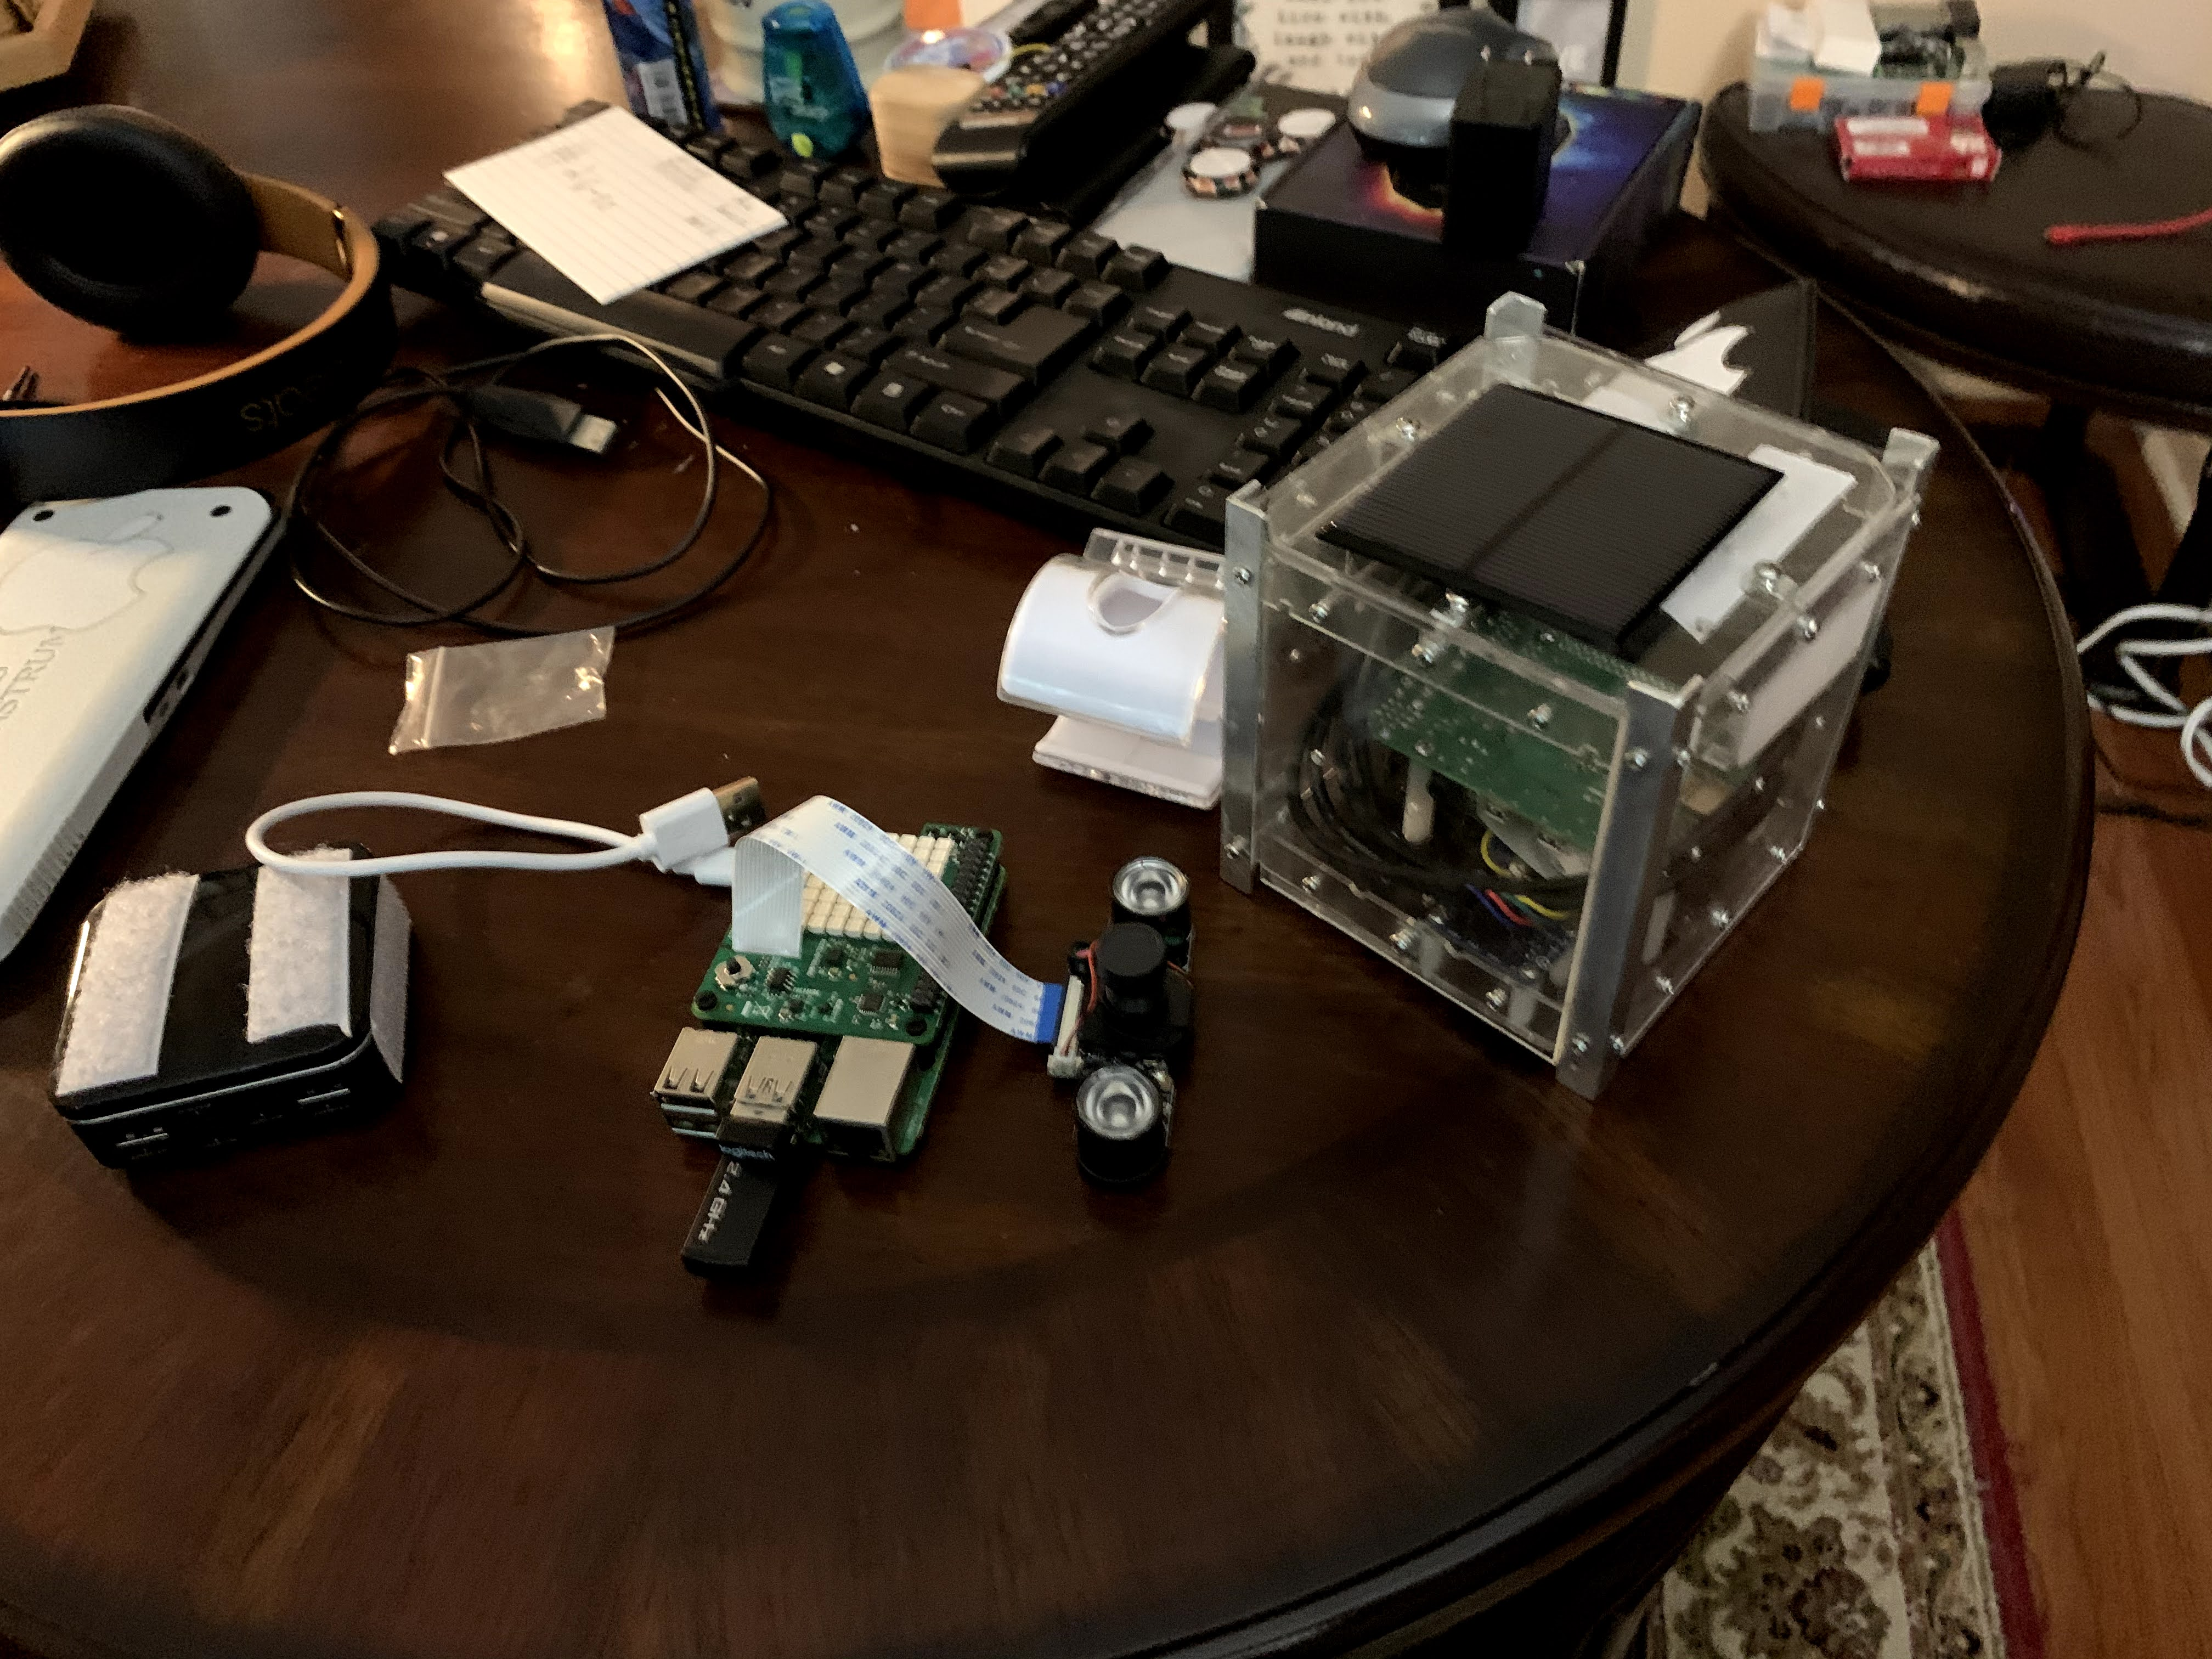Space-debris-cubesat: (1205, 279, 1973, 1103)
